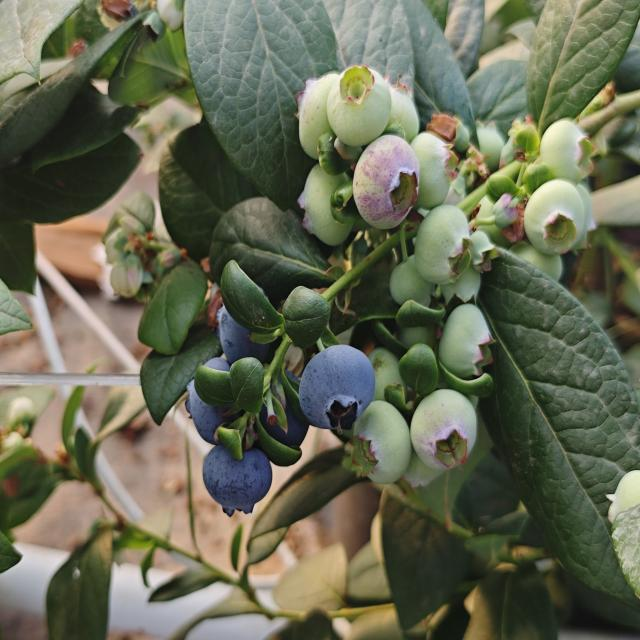ripe: (296, 342, 377, 436), (200, 441, 274, 518), (182, 360, 252, 438), (217, 297, 283, 360), (250, 392, 313, 458)
